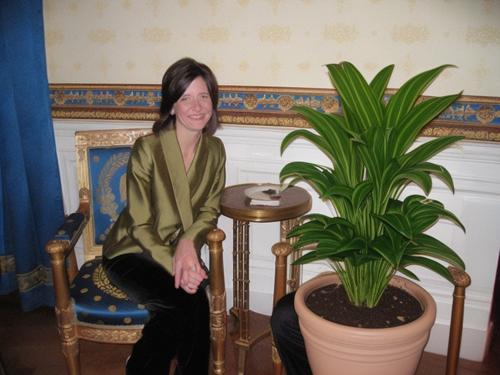chair: (273, 139, 469, 375), (48, 131, 226, 375)
person: (103, 60, 225, 375)
person/hand: (170, 243, 204, 289), (173, 265, 209, 296)
person/head: (165, 61, 216, 130)
pottedplant: (279, 63, 463, 375)
